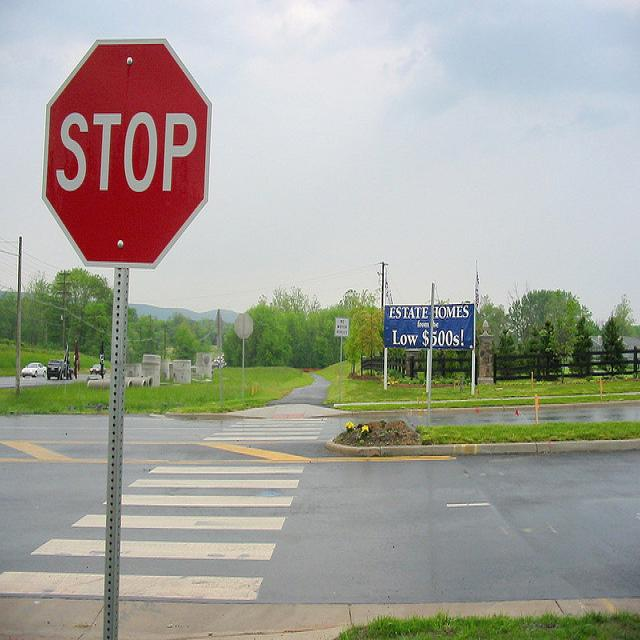Vehicle: (47, 356, 73, 381), (21, 362, 46, 377), (89, 364, 101, 375), (191, 362, 197, 373), (219, 356, 222, 361)
